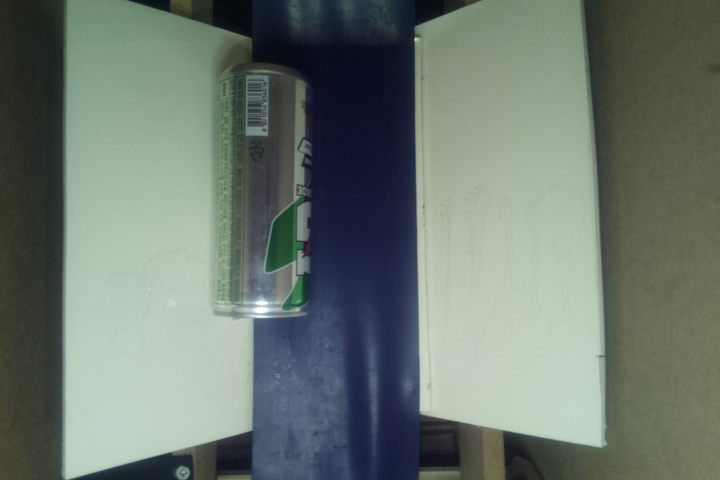can: (213, 62, 318, 322)
